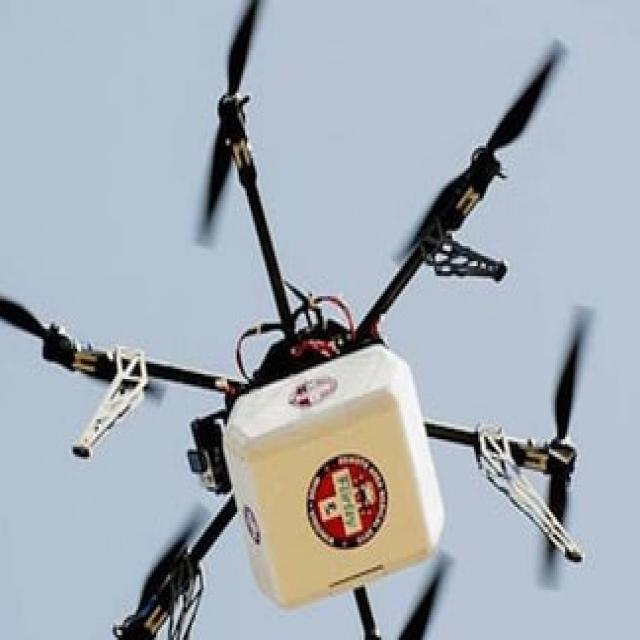drone: (0, 10, 618, 640)
